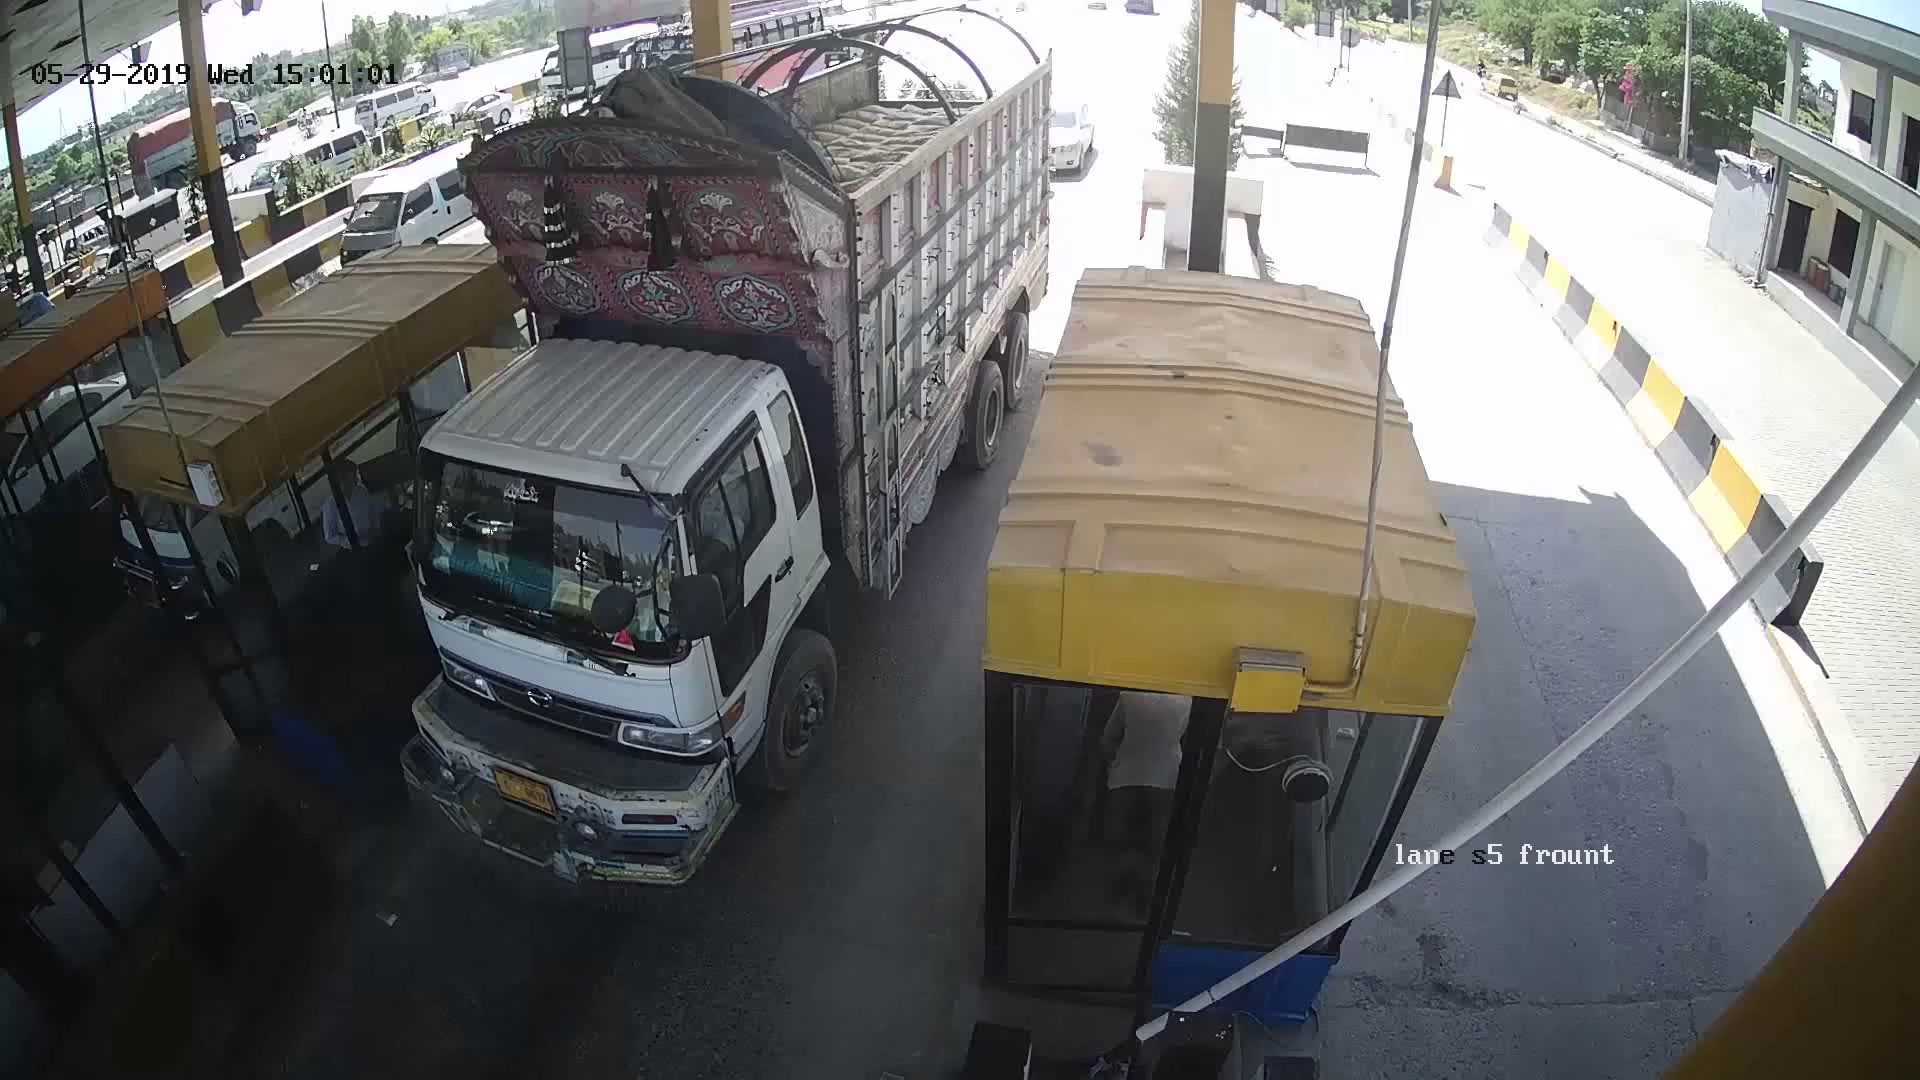truck: (502, 83, 948, 676)
